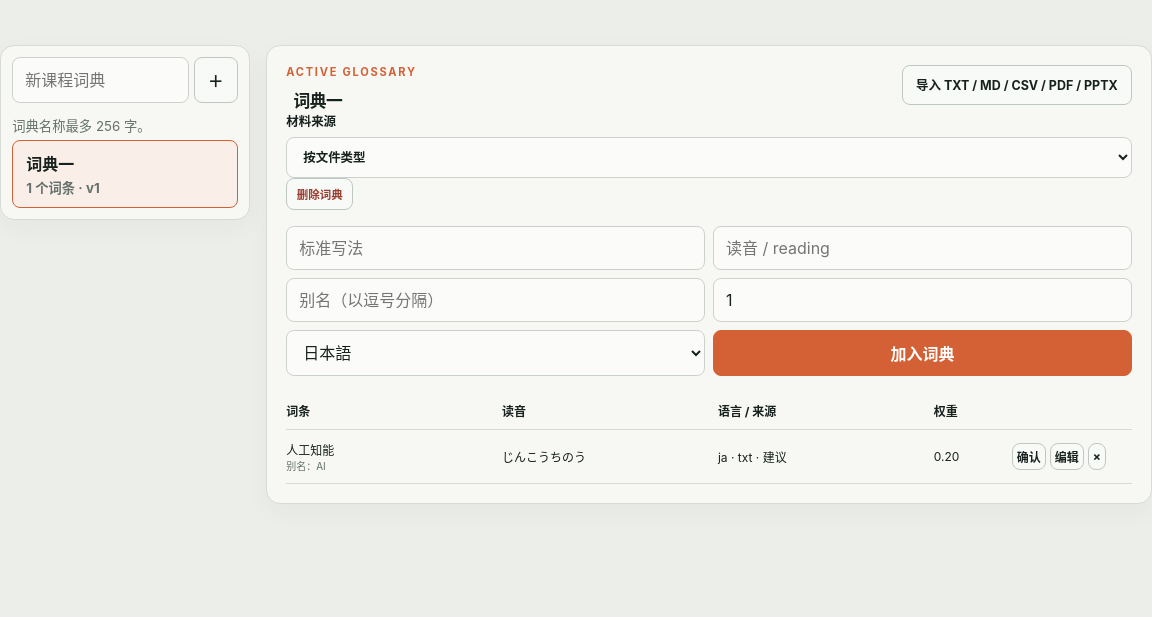
Test: confirms a suggestion while retaining its source and exposes editable term details
Expected: the heading "词典一" is shown, [293,91,342,111]
Click the button "确认".
click(1029, 457)  # box [1012,443,1046,470]
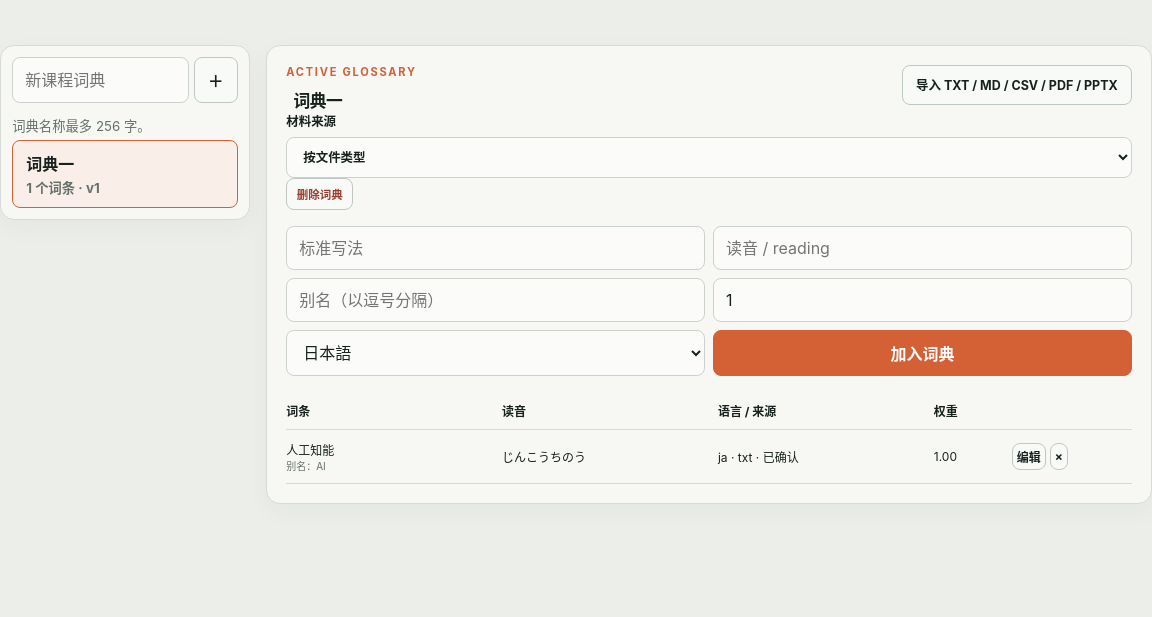
Click the button with aria-label "编辑 人工知能".
click(1029, 457)  # box [1012,443,1046,470]
(page scrolled)
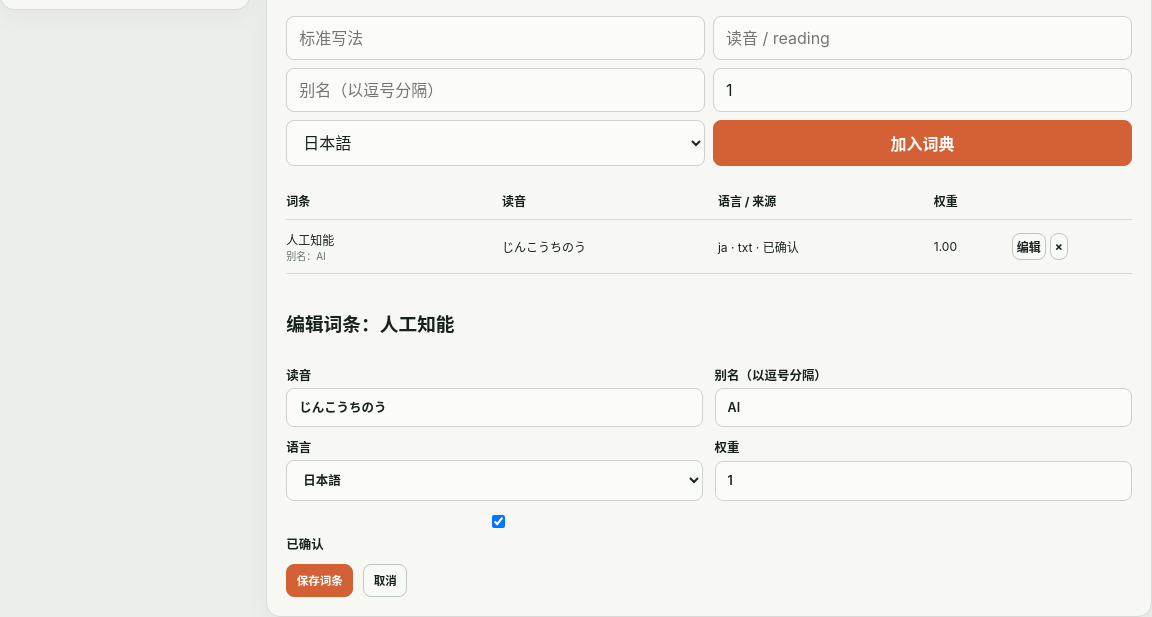
Expected: the 2nd field labelled "别名（以逗号分隔）" holds "AI", [715,388,1132,427]
Expected: the field labelled "读音" holds "じんこうちのう", [286,388,703,427]
